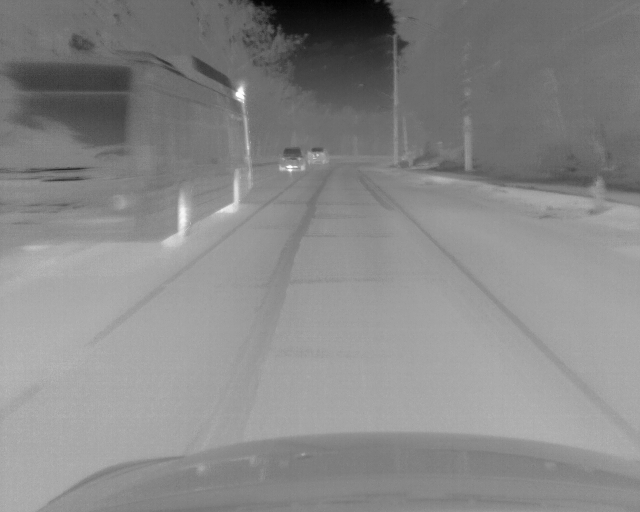car: (1, 50, 255, 255), (276, 148, 306, 173), (307, 145, 330, 167)
